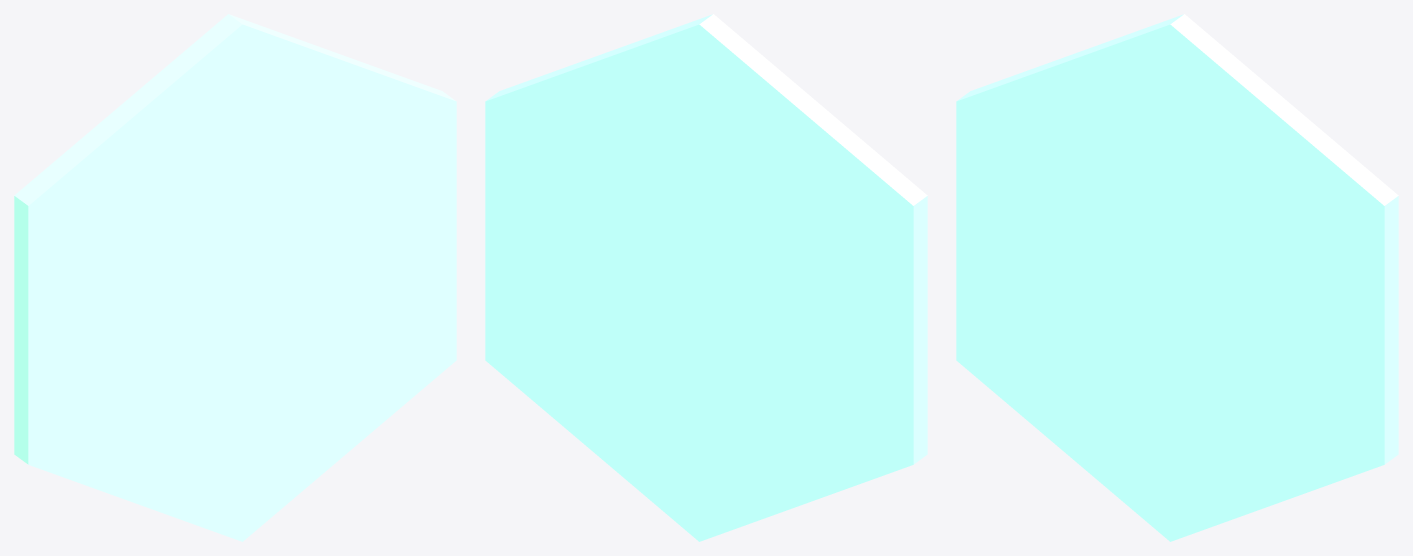
Rendered from SampleSheald.fbx.
3 renders of one model, left to right at view 1: azimuth 30°, elevation 25°; view 2: azimuth 150°, elevation 25°; view 3: azimuth 330°, elevation 25°, orthographic.
Visible parts, largest first — view 1: pCylinder1; view 2: pCylinder1; view 3: pCylinder1.
Boxes of the visible parts, x1,y1,x2,y2 form: pCylinder1: [14, 14, 456, 541]; pCylinder1: [485, 14, 927, 541]; pCylinder1: [956, 14, 1398, 541].
Bounding box in the file's own units: 0.5196 × 0.6 × 0.03.
